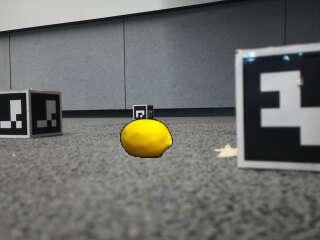lemon: (120, 119, 171, 157)
